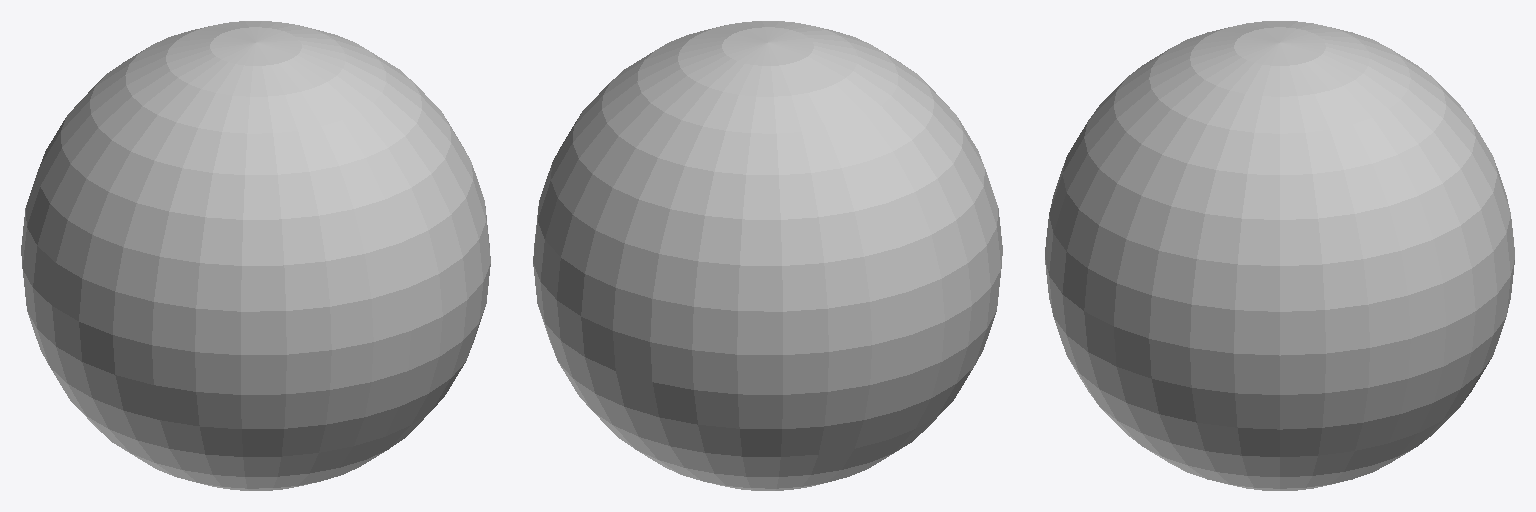
File: square.obj
3 views of the same model, side by side, from view 1: azimuth 30°, elevation 25°; view 2: azimuth 150°, elevation 25°; view 3: azimuth 270°, elevation 25° (orthographic).
Visible parts, largest first — view 1: Sphere; view 2: Sphere; view 3: Sphere.
Boxes of the visible parts, x1,y1,x2,y2 form: Sphere: [21, 21, 490, 490]; Sphere: [533, 21, 1002, 490]; Sphere: [1045, 21, 1514, 490].
Bounding box in the file's own units: 2 × 2 × 2.